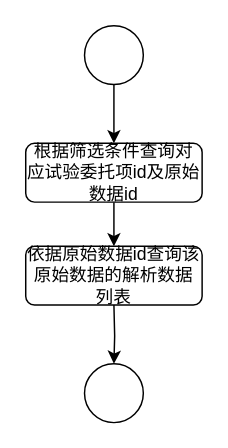
Image size: 228x448. Some labels were removed from this diagram. The centre of each missing label's shape, as x and y in pixels:
"End" goes at [113,392].
"Start" goes at [113,54].
